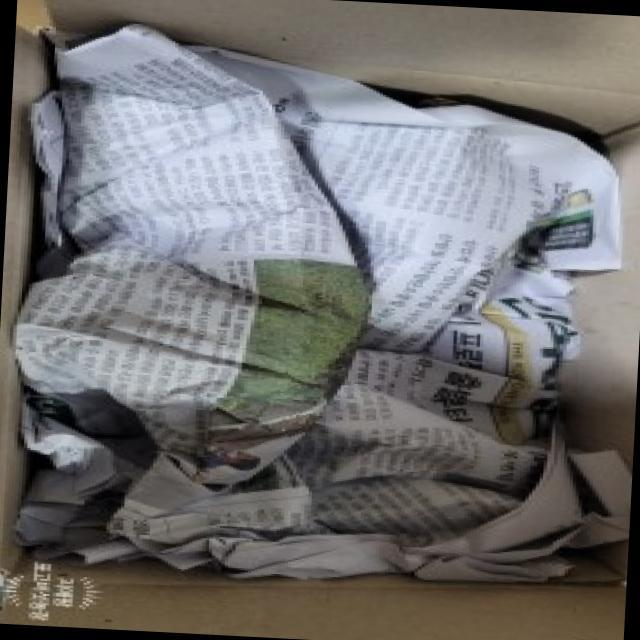reuseable_paper: (1, 32, 640, 588)
